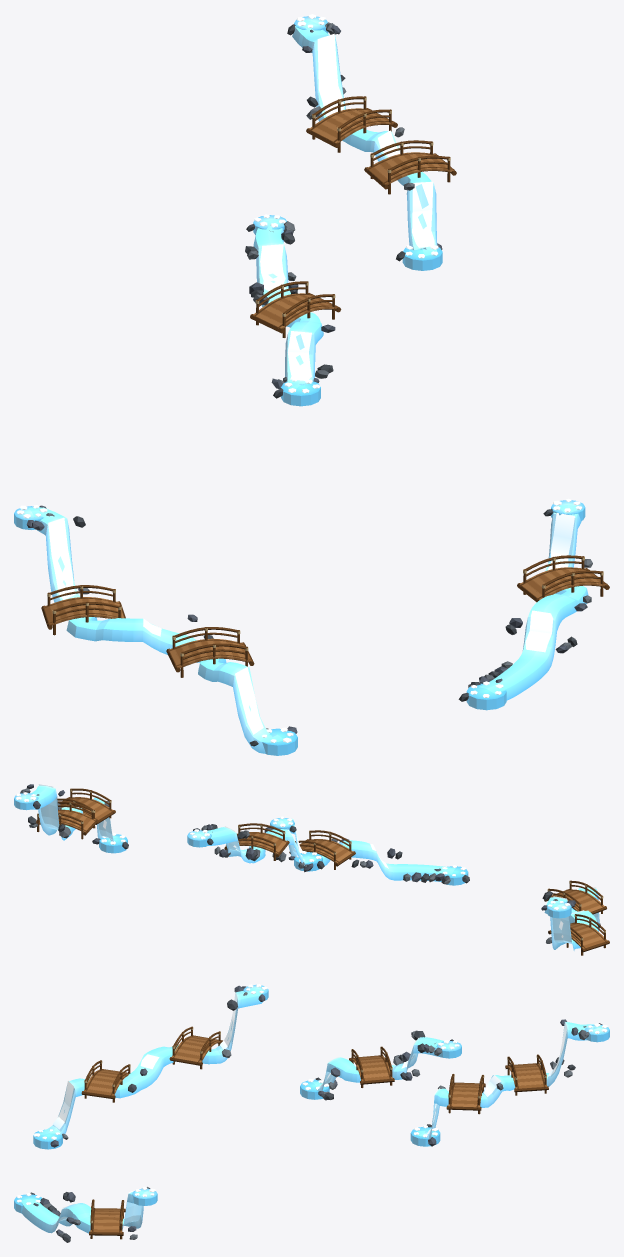
Rendered from mountain_streams.glb.
3 views of the same model, one above another, from view 1: azimuth 30°, elevation 25°; view 2: azimuth 150°, elevation 25°; view 3: azimuth 270°, elevation 25° (orthographic). The views are drawn at different scales.
Visible parts, largest first — view 1: MountainStreamWater, MountainStreamBridges, MountainStreamFoam, MountainStreamRocks; view 2: MountainStreamWater, MountainStreamBridges, MountainStreamRocks, MountainStreamFoam; view 3: MountainStreamWater, MountainStreamBridges, MountainStreamRocks, MountainStreamFoam.
Part boxes in pixels (x1=…): MountainStreamWater: x1=14, y1=16, x2=588, y2=755; MountainStreamBridges: x1=41, y1=96, x2=609, y2=677; MountainStreamFoam: x1=17, y1=14, x2=582, y2=742; MountainStreamRocks: x1=26, y1=22, x2=592, y2=746; MountainStreamWater: x1=14, y1=785, x2=599, y2=950; MountainStreamBridges: x1=36, y1=788, x2=609, y2=955; MountainStreamRocks: x1=20, y1=784, x2=600, y2=943; MountainStreamFoam: x1=16, y1=784, x2=596, y2=937; MountainStreamWater: x1=14, y1=984, x2=609, y2=1235; MountainStreamBridges: x1=81, y1=1026, x2=548, y2=1239; MountainStreamRocks: x1=30, y1=985, x2=602, y2=1242; MountainStreamFoam: x1=16, y1=984, x2=607, y2=1208.
Bounding box in the file's own units: 14.13 × 8.29 × 16.91.
